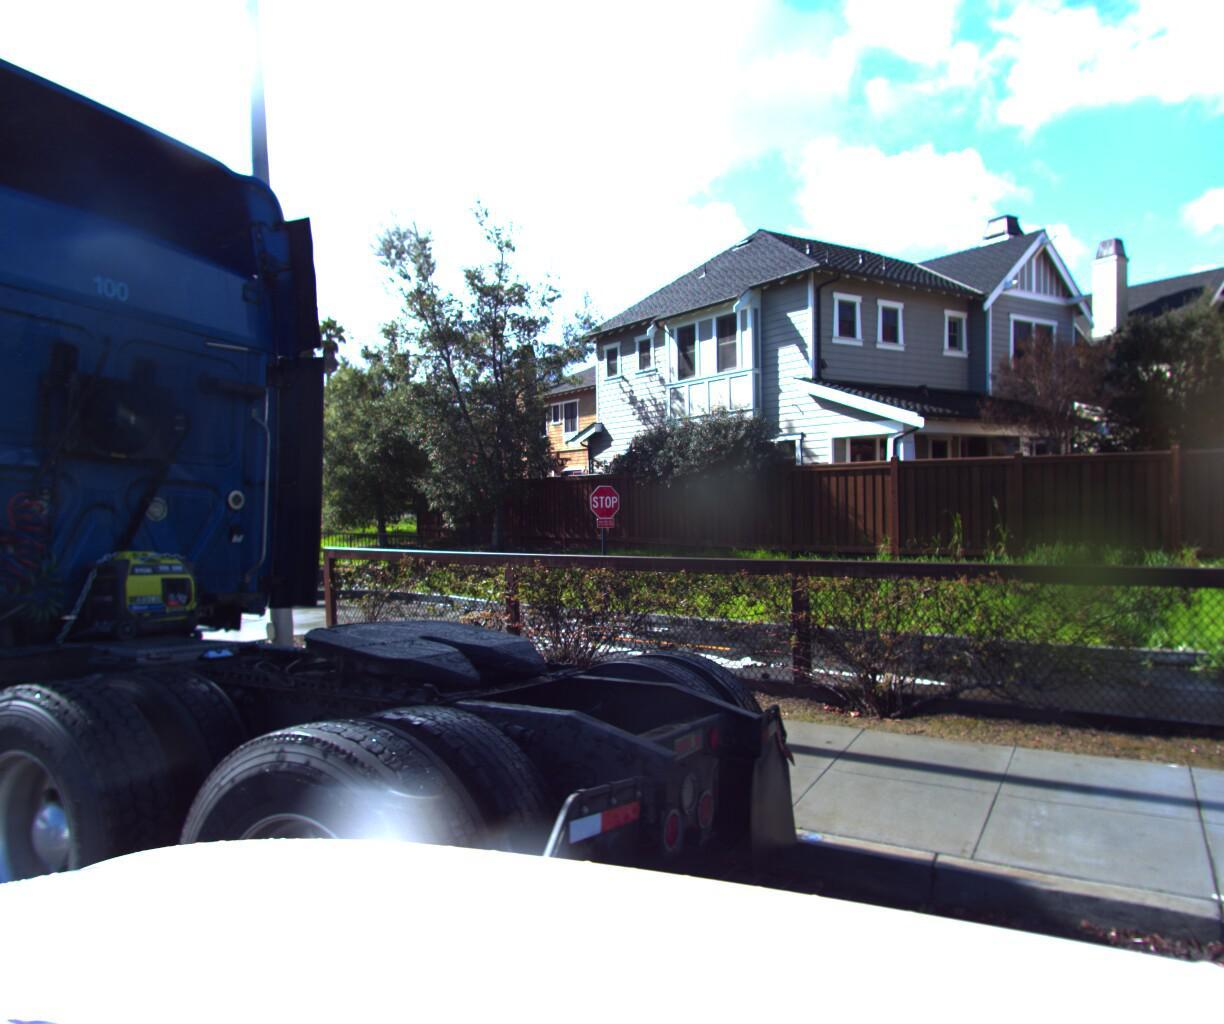truck: (0, 0, 831, 1024)
